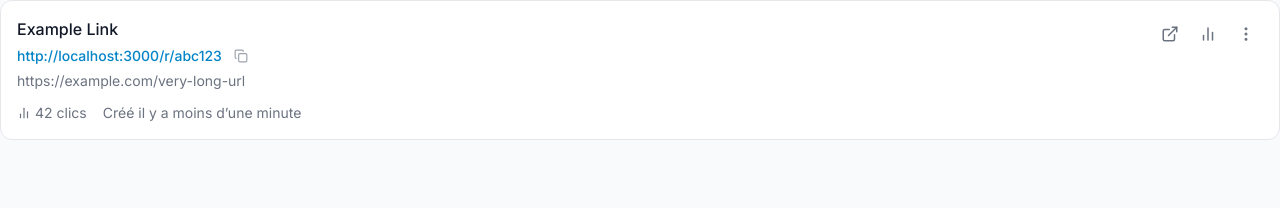
Scenario: LinkCard Component › should open context menu when more button is clicked
The width and height of the screenshot is (1280, 208).
Click the 1st button at (1246, 34), box [1229,17,1263,51]
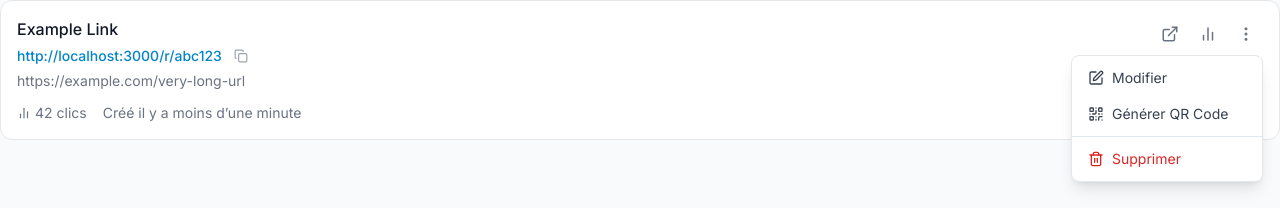
expect the button "Modifier" is shown: met, box [1072,60,1262,96]
expect the button "Supprimer" is shown: met, box [1072,141,1262,177]
